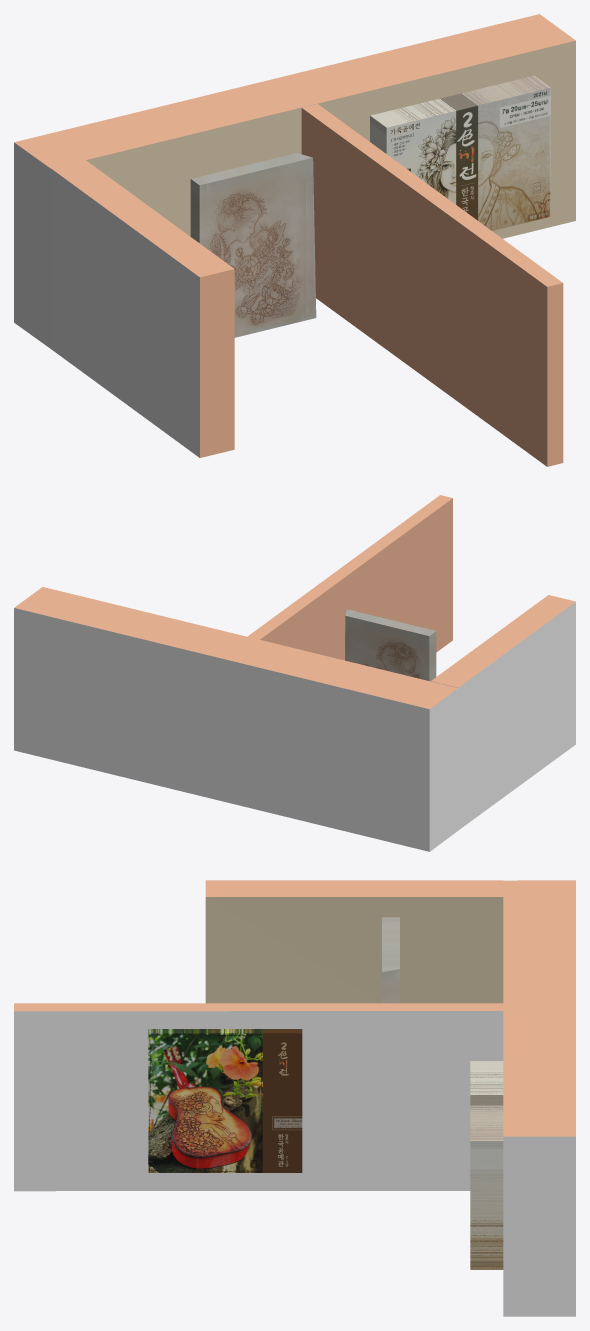
3 renders of one model, top to bottom at view 1: azimuth 30°, elevation 25°; view 2: azimuth 150°, elevation 25°; view 3: azimuth 270°, elevation 25°, orthographic. The views are drawn at different scales.
Parts seen in each view (by area): view 1: SketchUp.002, SketchUp, SketchUp.003, SketchUp.006, SketchUp.004, SketchUp.005, SketchUp.001, SketchUp.012; view 2: SketchUp, SketchUp.002, SketchUp.004, SketchUp.005, SketchUp.001; view 3: SketchUp, SketchUp.007, SketchUp.003, SketchUp.014, SketchUp.004, SketchUp.006, SketchUp.001, SketchUp.002, SketchUp.012, SketchUp.005.
Boxes of the visible parts, x1,y1,x2,y2 form: SketchUp.002: [301, 104, 563, 466]; SketchUp: [14, 142, 199, 457]; SketchUp.003: [86, 40, 575, 238]; SketchUp.006: [370, 75, 550, 230]; SketchUp.004: [14, 14, 575, 168]; SketchUp.005: [190, 153, 309, 337]; SketchUp.001: [51, 160, 234, 457]; SketchUp.012: [192, 153, 316, 319]; SketchUp: [14, 602, 575, 851]; SketchUp.002: [247, 495, 452, 660]; SketchUp.004: [14, 587, 457, 709]; SketchUp.005: [345, 610, 436, 681]; SketchUp.001: [431, 595, 575, 687]; SketchUp: [14, 1011, 575, 1316]; SketchUp.007: [14, 1011, 503, 1191]; SketchUp.003: [205, 897, 503, 1003]; SketchUp.014: [148, 1029, 302, 1172]; SketchUp.004: [503, 880, 575, 1136]; SketchUp.006: [470, 1061, 503, 1269]; SketchUp.001: [205, 880, 503, 896]; SketchUp.002: [14, 1003, 503, 1011]; SketchUp.012: [382, 917, 399, 1003]; SketchUp.005: [382, 917, 399, 968].
Bounding box in the file's own units: 11.37 × 3.86 × 10.54.
11 materials, 5 textured.
